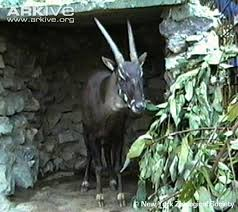sao_la: (81, 16, 147, 205)
